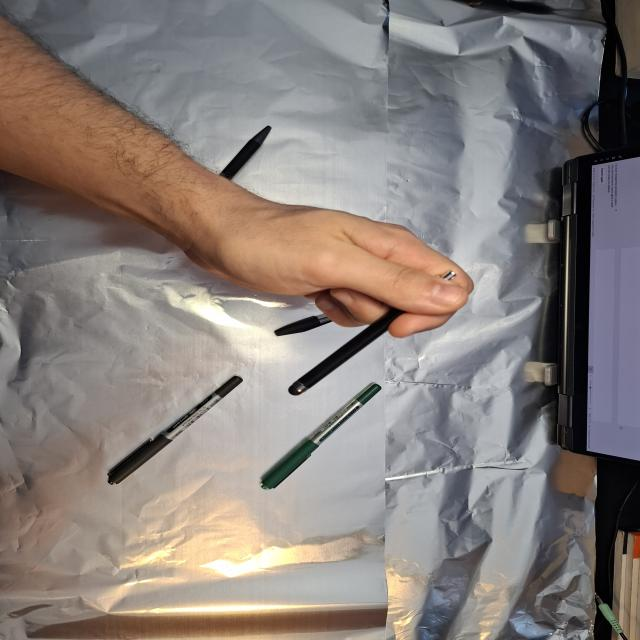glove_off: (183, 199, 476, 340)
